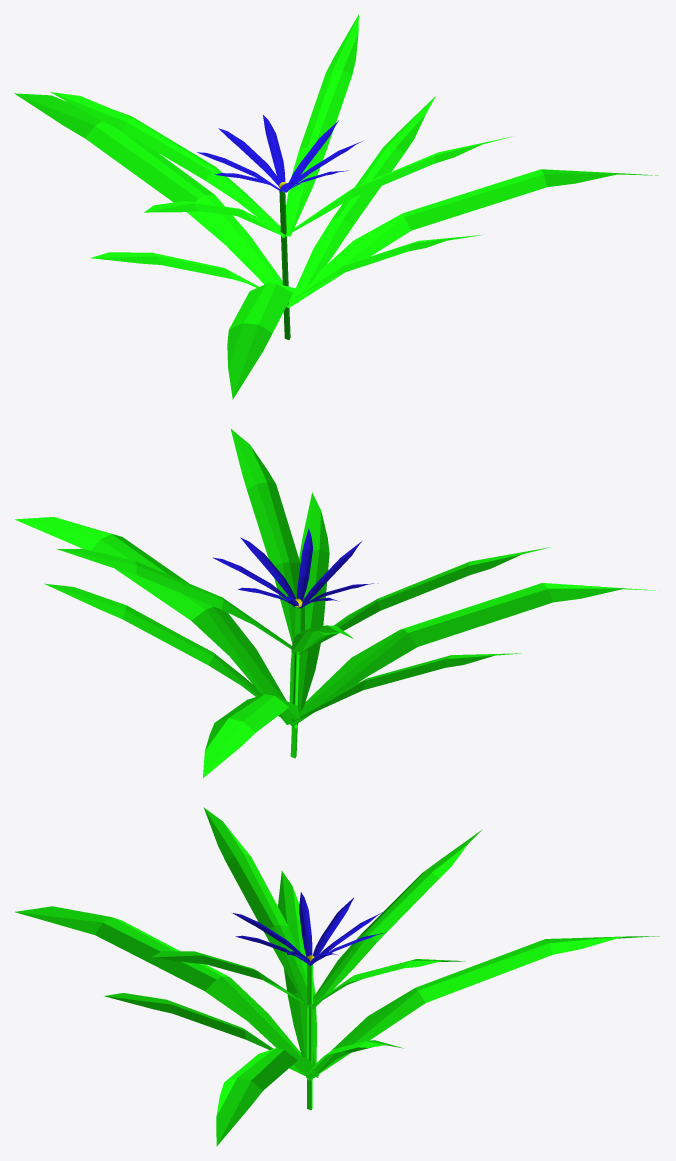
File: flower2.fbx
The picture shows the model from 3 angles, top to bottom: view 1: azimuth 30°, elevation 25°; view 2: azimuth 150°, elevation 25°; view 3: azimuth 270°, elevation 25°; orthographic projection. The views are drawn at different scales.
Parts seen in each view (by area): view 1: Plane326; view 2: Plane326; view 3: Plane326.
Part boxes in pixels (x1,y1,x2,y2): Plane326: (14, 14, 658, 399); Plane326: (14, 429, 659, 777); Plane326: (15, 807, 659, 1146).
Size of the model in its own units: 6.56 by 2.66 by 7.09.
